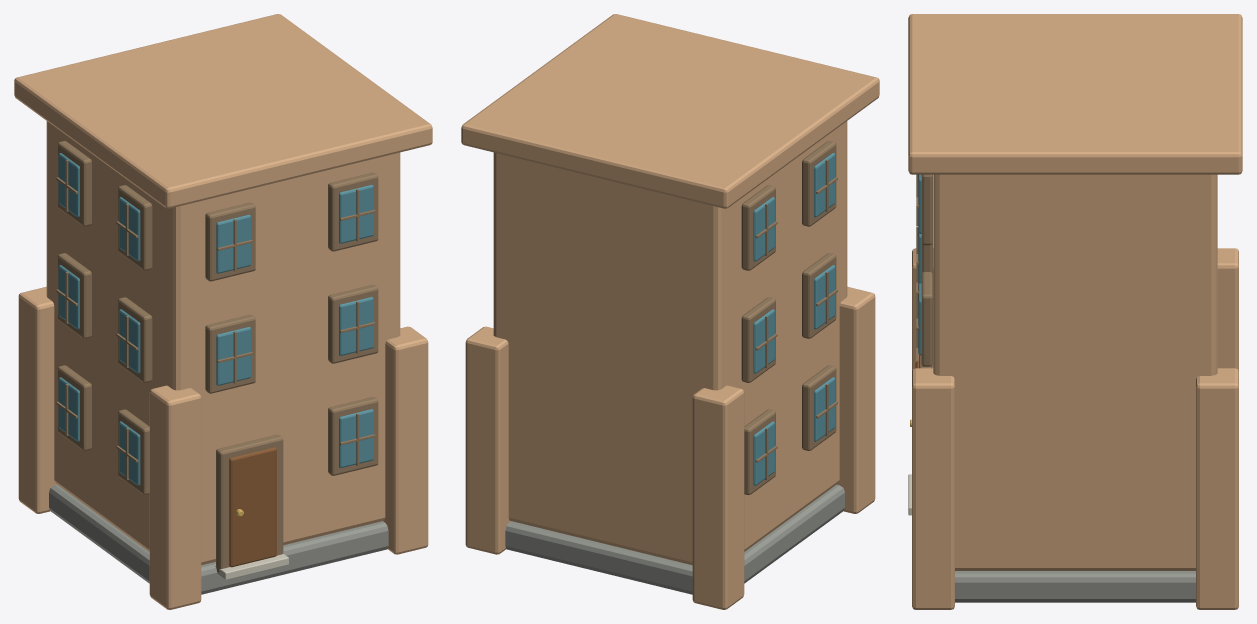
File: arid-tower-0.glb
3 views of the same model, side by side, from view 1: azimuth 30°, elevation 25°; view 2: azimuth 150°, elevation 25°; view 3: azimuth 270°, elevation 25° (orthographic). The views are drawn at different scales.
Parts seen in each view (by area): view 1: Adobe fieldstone, Adobe cream, Adobe warm_stone, Palm beams, Blue glass, Foundation stone, Door oak, Cut limestone; view 2: Adobe fieldstone, Adobe cream, Adobe warm_stone, Palm beams, Foundation stone, Blue glass; view 3: Adobe fieldstone, Adobe cream, Adobe warm_stone, Foundation stone, Palm beams, Blue glass.
Part boxes in pixels (x1,y1,x2,y2): Adobe fieldstone: [46, 121, 400, 565]; Adobe cream: [14, 14, 432, 208]; Adobe warm_stone: [18, 286, 428, 609]; Palm beams: [56, 141, 378, 572]; Blue glass: [58, 153, 373, 485]; Foundation stone: [49, 484, 388, 594]; Door oak: [229, 447, 276, 567]; Cut limestone: [215, 553, 288, 579]; Adobe fieldstone: [493, 121, 847, 565]; Adobe cream: [461, 14, 879, 208]; Adobe warm_stone: [465, 286, 875, 609]; Palm beams: [741, 141, 837, 495]; Foundation stone: [505, 484, 844, 594]; Blue glass: [753, 153, 835, 485]; Adobe fieldstone: [933, 174, 1217, 570]; Adobe cream: [908, 14, 1242, 174]; Adobe warm_stone: [912, 248, 1238, 609]; Foundation stone: [955, 571, 1195, 602]; Palm beams: [916, 174, 932, 368]; Blue glass: [918, 174, 921, 355].
Bounding box in the file's own units: 2.94 × 4.46 × 2.94.
